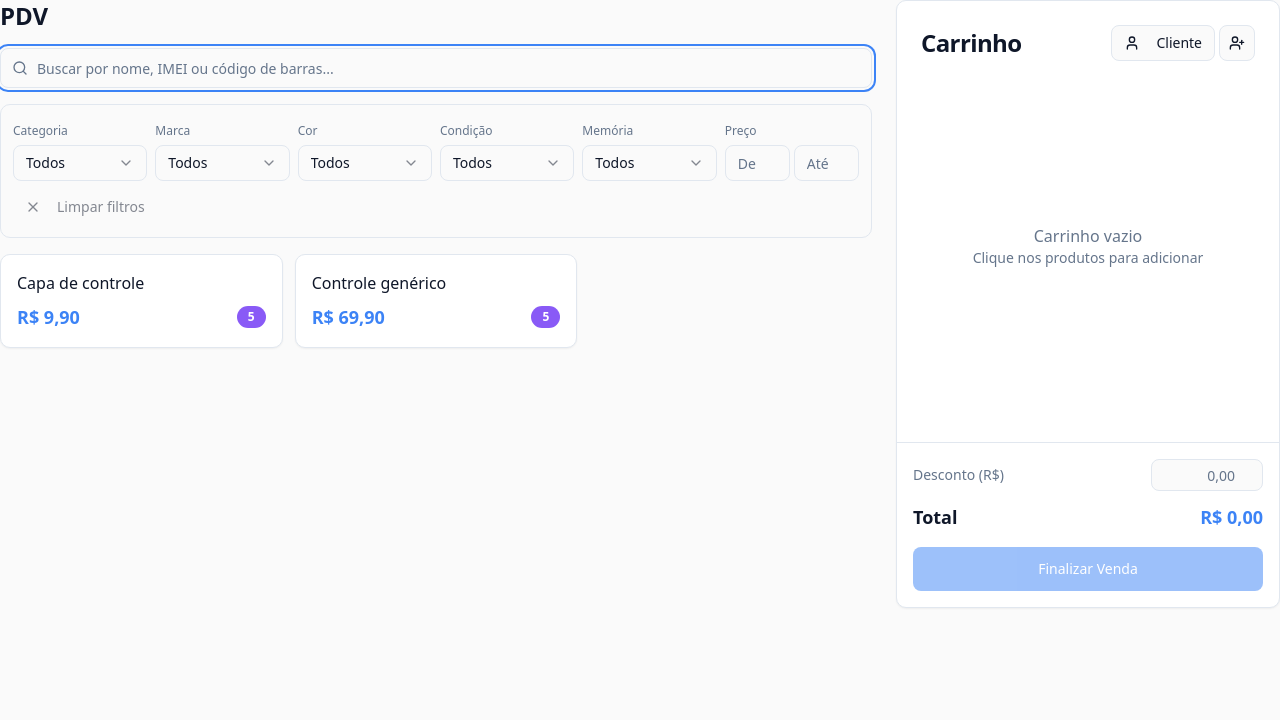
Test: PDV: pagamento em centavos › R$ 9,90 + R$ 69,90 pagos com R$ 79,80 no débito fecham — sem "Falta R$ 0,00"
Click the text "Capa de controle" at (81, 283), box top-left (17, 272), bottom-right (144, 294)
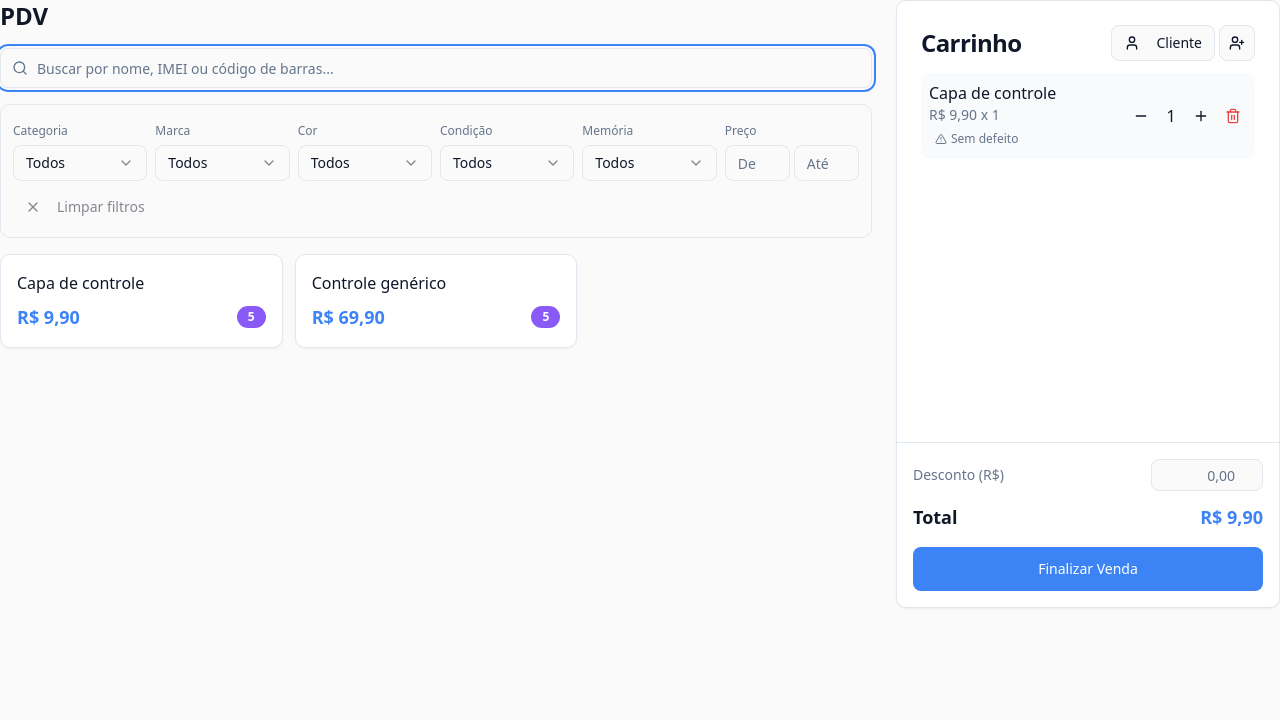
Click the text "Controle genérico" at (379, 283), box top-left (312, 272), bottom-right (446, 294)
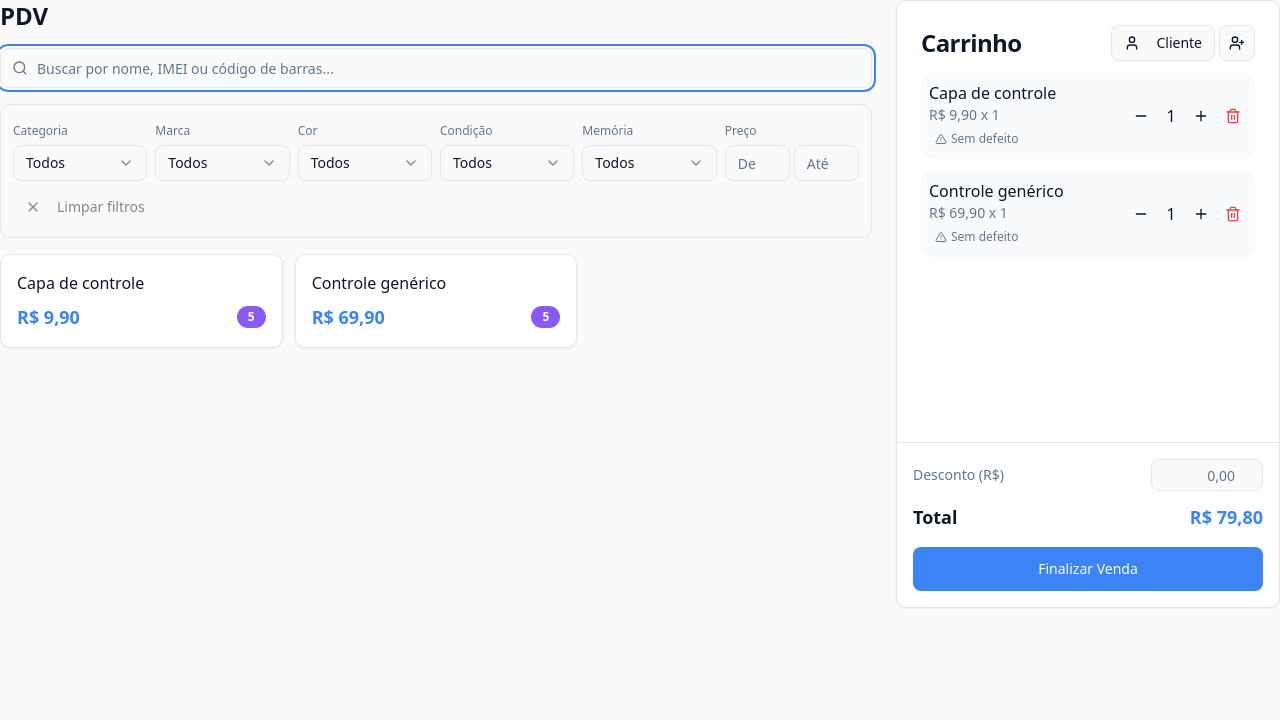
Now the button "Finalizar Venda" is enabled
Click the button "Finalizar Venda" at (1088, 569), box top-left (913, 547), bottom-right (1263, 591)
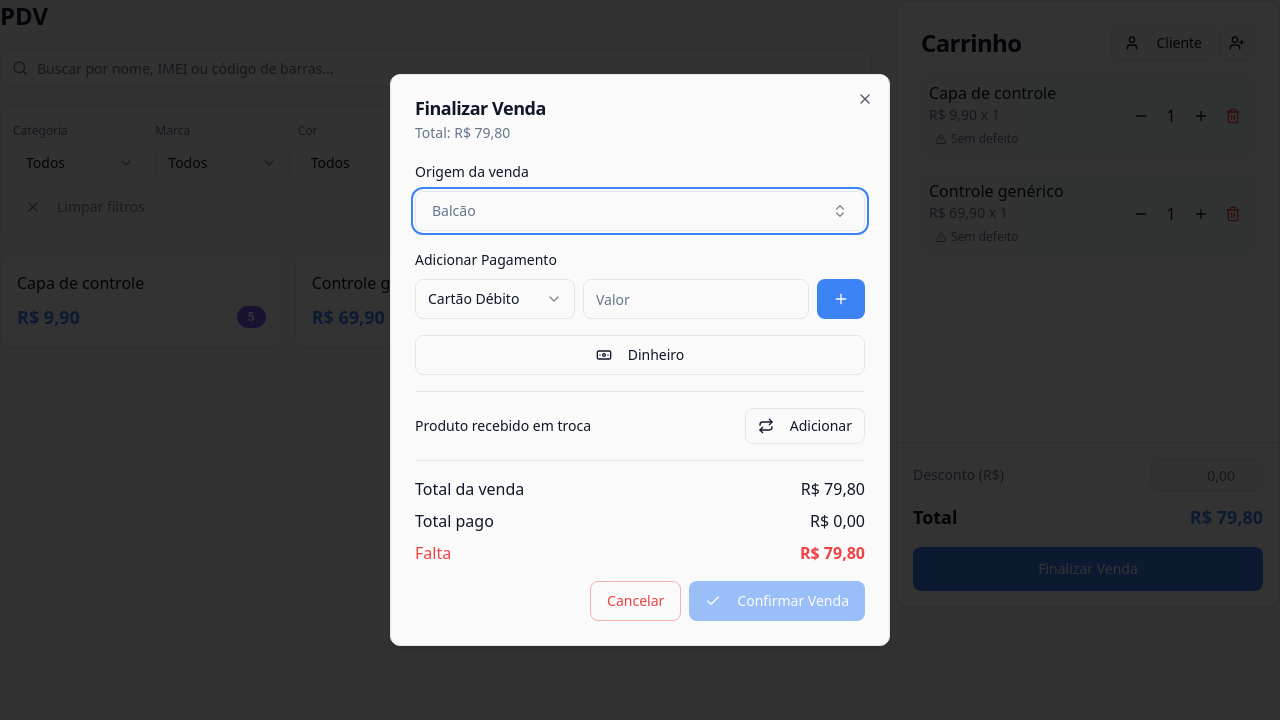
Now the text "Adicionar Pagamento" is shown, box top-left (415, 250), bottom-right (557, 269)
Type "79.80" into the number field with placeholder "Valor" at (696, 299), box top-left (583, 279), bottom-right (809, 319)
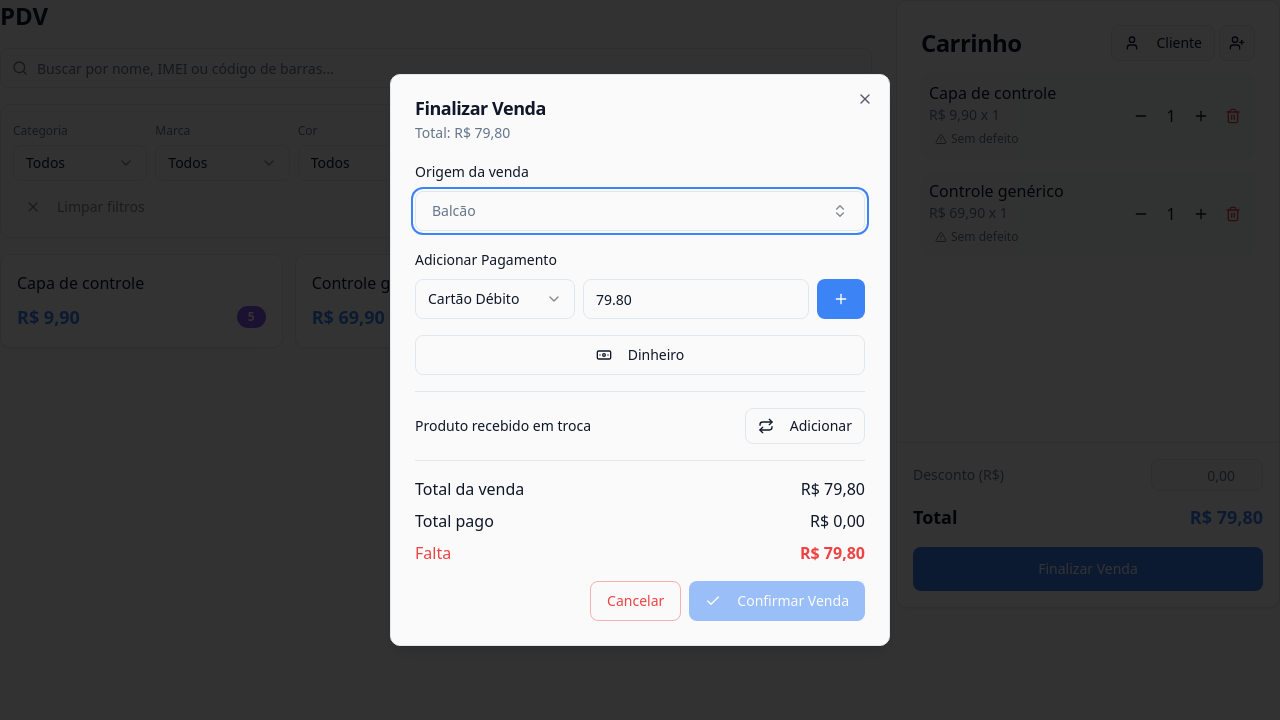
Click the 2nd button at (841, 299), box top-left (817, 279), bottom-right (865, 319)
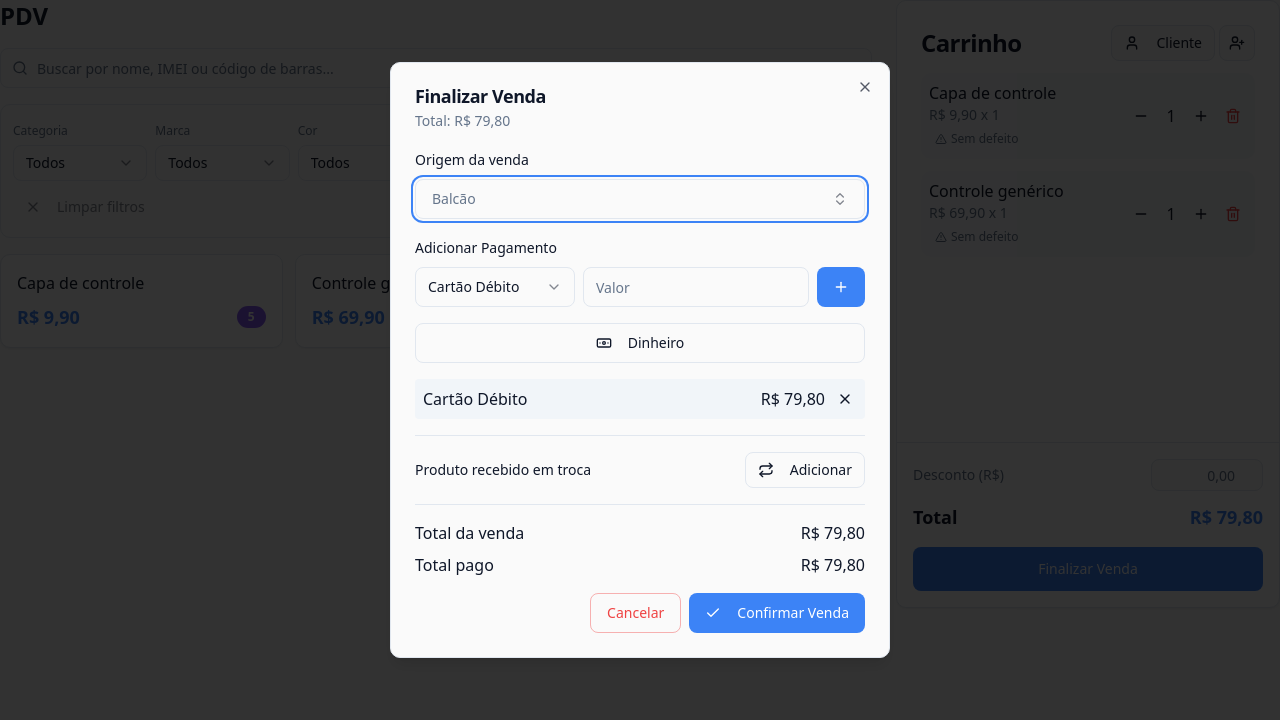
Now the button "Confirmar Venda" is enabled, box top-left (689, 593), bottom-right (865, 633)
Now the text "Falta" is gone
